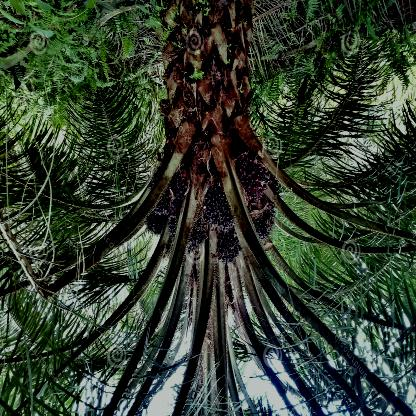1: (237, 147, 269, 204)
palm-oil: (149, 158, 194, 215), (201, 183, 236, 228), (247, 203, 277, 241), (215, 232, 239, 264), (188, 224, 207, 253), (146, 215, 165, 236), (167, 216, 182, 239)
